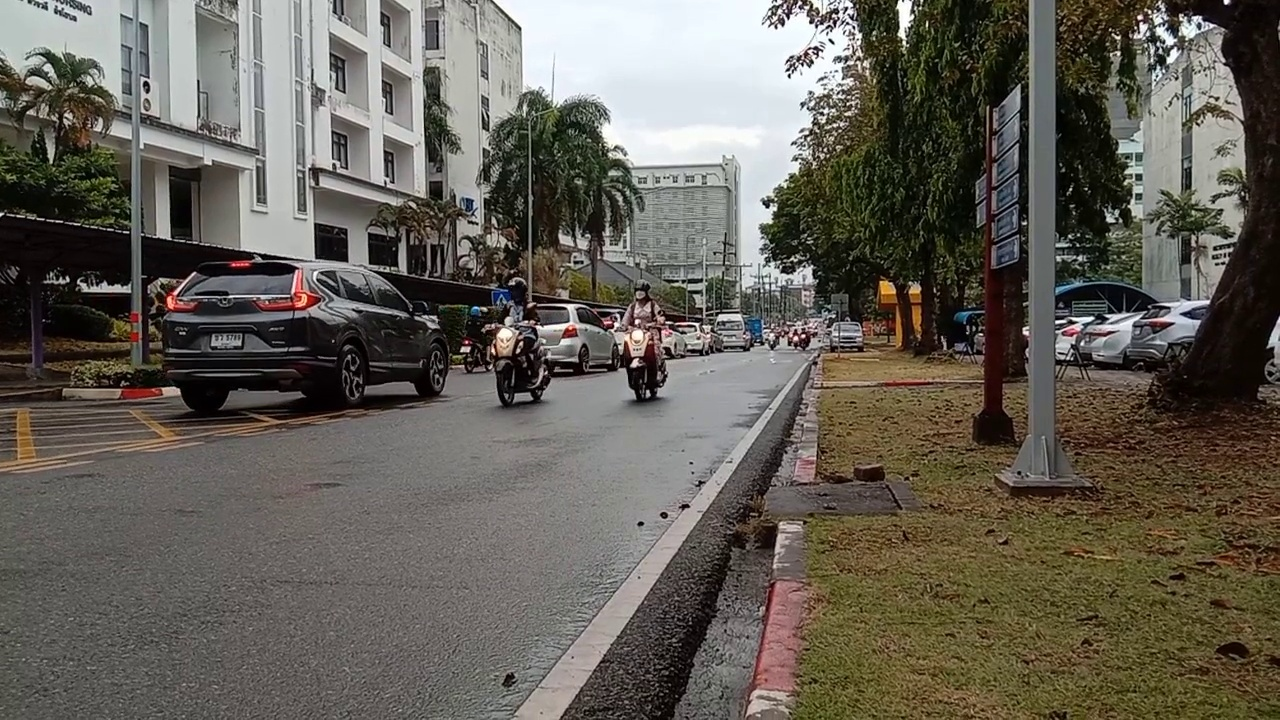License Plate: (208, 329, 244, 348)
